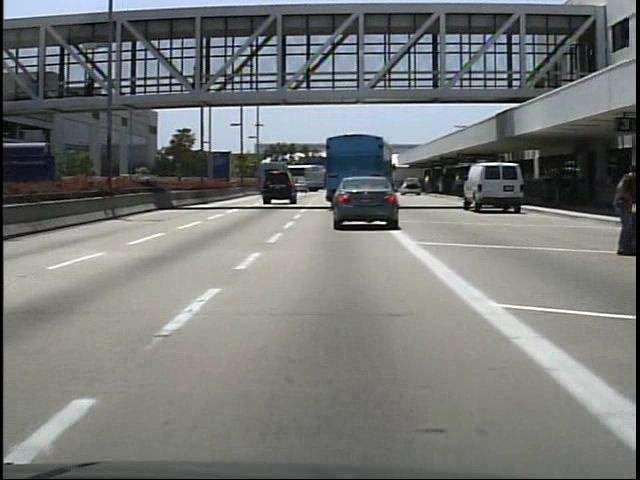person: (551, 166, 572, 208), (189, 64, 206, 100), (86, 68, 102, 98), (454, 171, 467, 197)
